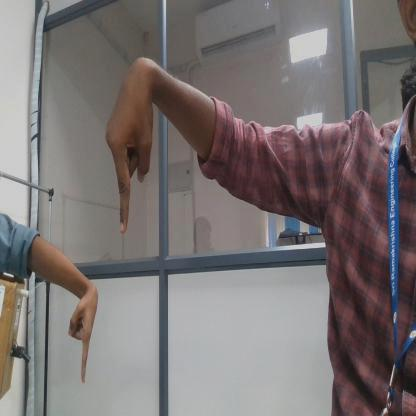Down: (100, 44, 164, 240), (68, 275, 108, 391)
